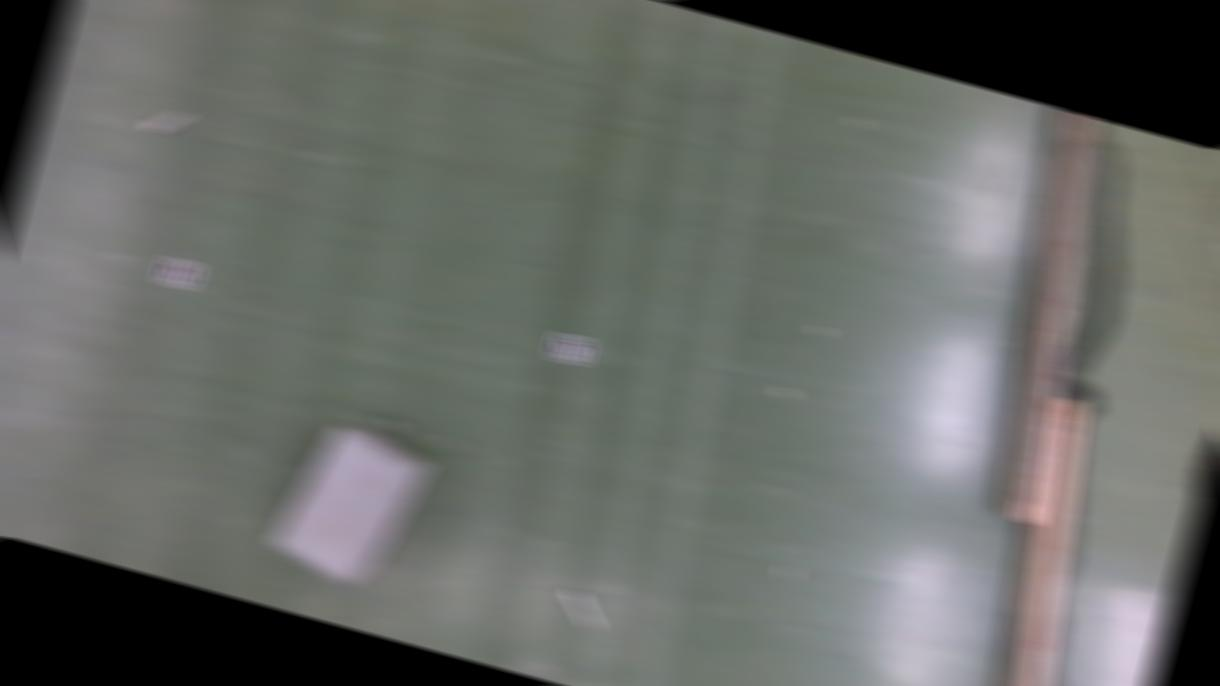probes: (560, 589, 605, 632), (145, 104, 192, 142)
rako: (262, 414, 438, 601)
